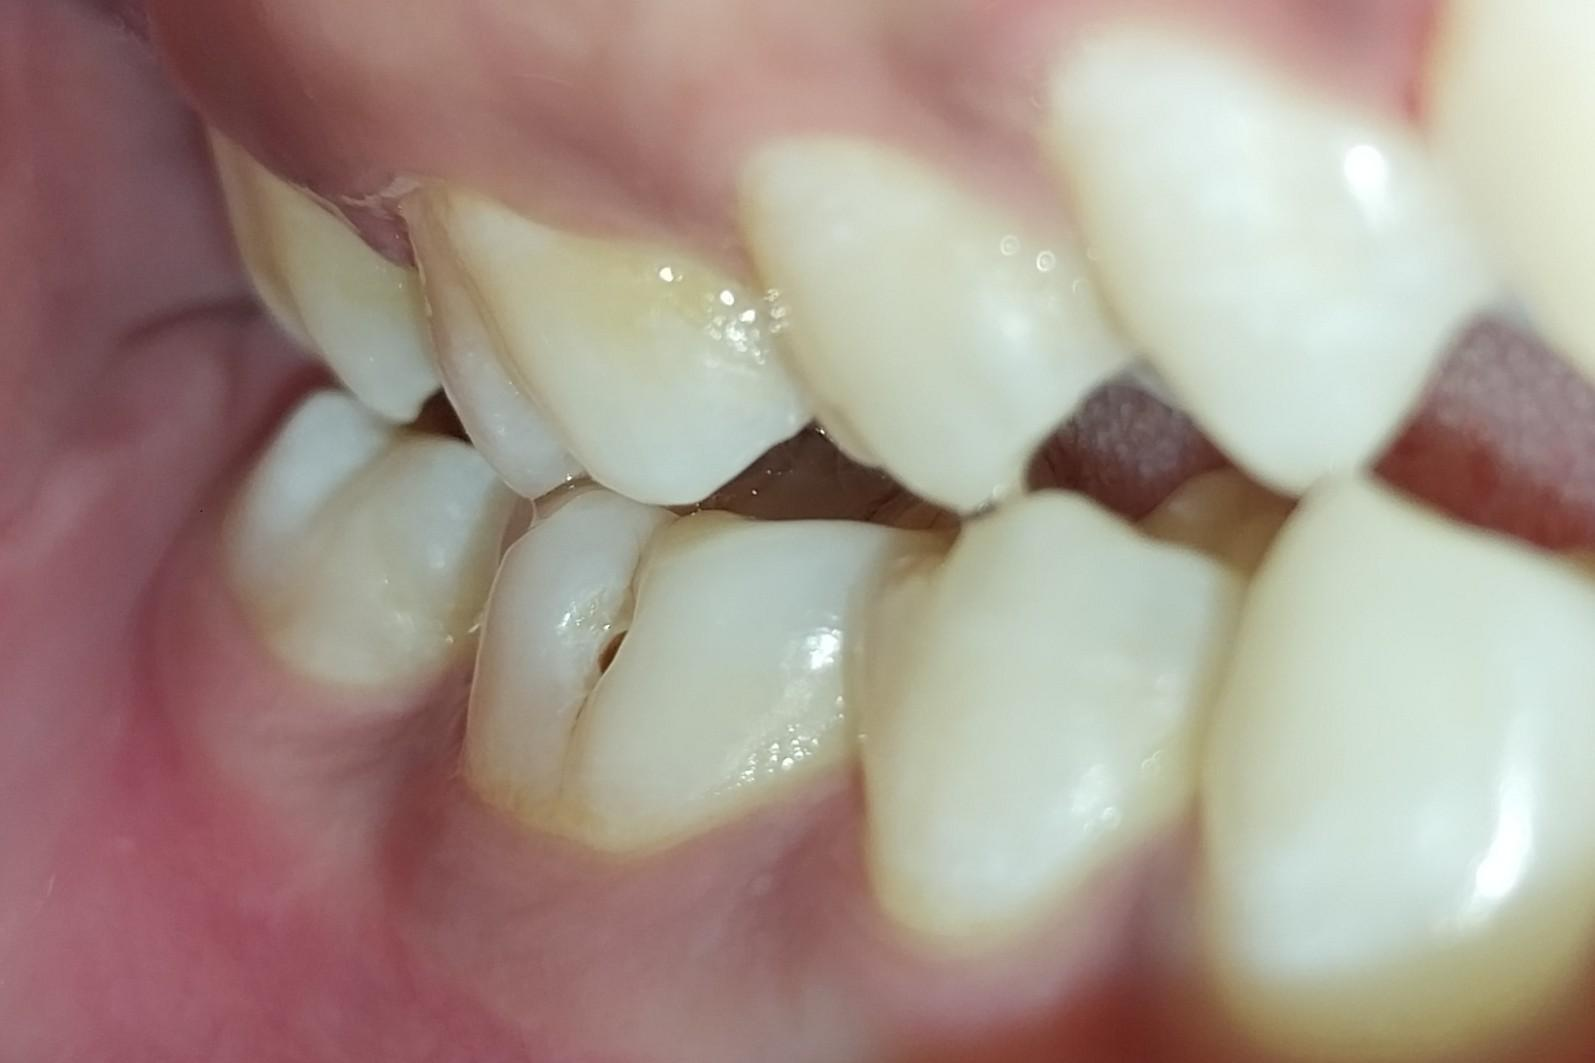D: (470, 489, 902, 844)
